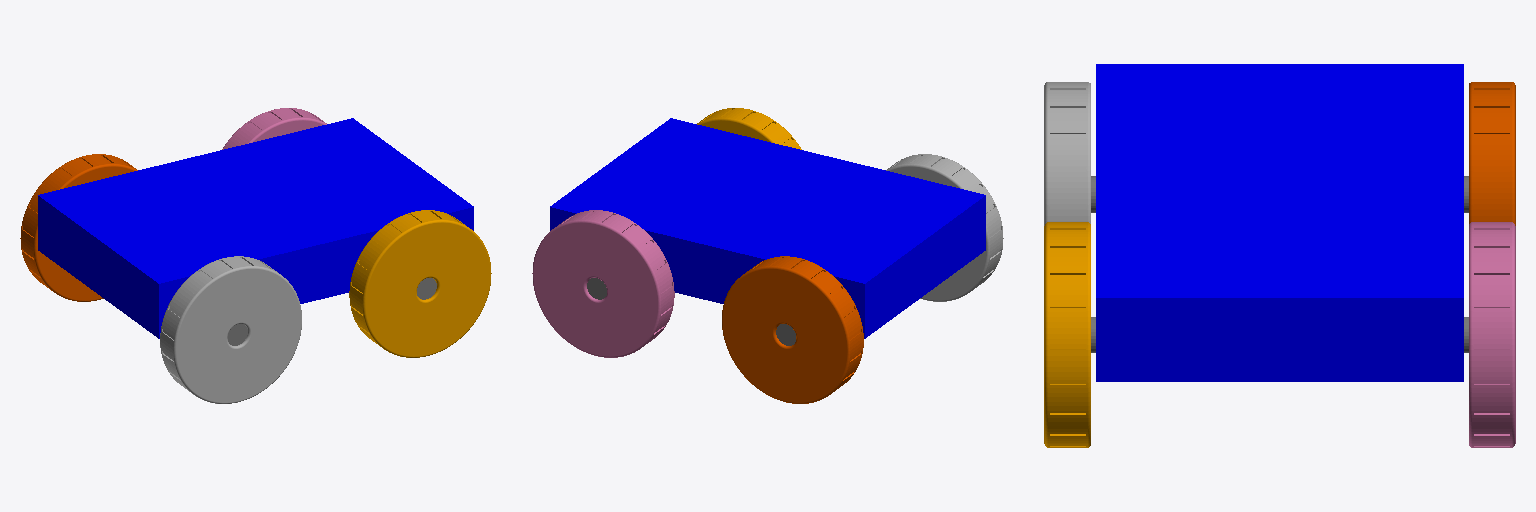
robot.urdf — farad_amr:
<?xml version="1.0"?>
<robot name="farad_amr">

<!-- Base link (chassis) -->
<link name="base_link">
<visual>
<geometry>
<box size="0.6 0.4 0.1"/>
</geometry>
<material name="blue">
<color rgba="0 0 1 1"/>
</material>
</visual>
<collision>
<geometry>
<box size="0.6 0.4 0.1"/>
</geometry>
</collision>
<inertial>
<mass value="10.0"/>
<inertia ixx="0.1" ixy="0.0" ixz="0.0" iyy="0.1" iyz="0.0" izz="0.1"/>
</inertial>
</link>




<!-- Left front shaft -->
<link name="left_front_shaft">
<visual>
<geometry>
<cylinder radius="0.02" length="0.10"/>
</geometry>
<origin xyz="0 0 0" rpy="1.5708 0 0"/>
<material name="gray">
<color rgba="0.5 0.5 0.5 1"/>
</material>
</visual>
<collision>
<geometry>
<cylinder radius="0.02" length="0.10"/>
</geometry>
<origin xyz="0 0 0" rpy="1.5708 0 0"/>
</collision>
<inertial>
<mass value="0.2"/>
<inertia ixx="0.01" ixy="0.0" ixz="0.0" iyy="0.01" iyz="0.0" izz="0.01"/>
</inertial>
</link>

<!-- Left rear shaft -->
<link name="left_rear_shaft">
<visual>
<geometry>
<cylinder radius="0.02" length="0.10"/>
</geometry>
<origin xyz="0 0 0" rpy="1.5708 0 0"/>
<material name="gray">
<color rgba="0.5 0.5 0.5 1"/>
</material>
</visual>
<collision>
<geometry>
<cylinder radius="0.02" length="0.10"/>
</geometry>
<origin xyz="0 0 0" rpy="1.5708 0 0"/>
</collision>
<inertial>
<mass value="0.2"/>
<inertia ixx="0.01" ixy="0.0" ixz="0.0" iyy="0.01" iyz="0.0" izz="0.01"/>
</inertial>
</link>

<!-- Right front shaft -->
<link name="right_front_shaft">
<visual>
<geometry>
<cylinder radius="0.02" length="0.10"/>
</geometry>
<origin xyz="0 0 0" rpy="1.5708 0 0"/>
<material name="gray">
<color rgba="0.5 0.5 0.5 1"/>
</material>
</visual>
<collision>
<geometry>
<cylinder radius="0.02" length="0.10"/>
</geometry>
<origin xyz="0 0 0" rpy="1.5708 0 0"/>
</collision>
<inertial>
<mass value="0.2"/>
<inertia ixx="0.01" ixy="0.0" ixz="0.0" iyy="0.01" iyz="0.0" izz="0.01"/>
</inertial>
</link>

<!-- Right rear shaft -->
<link name="right_rear_shaft">
<visual>
<geometry>
<cylinder radius="0.02" length="0.10"/>
</geometry>
<origin xyz="0 0 0" rpy="1.5708 0 0"/>
<material name="gray">
<color rgba="0.5 0.5 0.5 1"/>
</material>
</visual>
<collision>
<geometry>
<cylinder radius="0.02" length="0.10"/>
</geometry>
<origin xyz="0 0 0" rpy="1.5708 0 0"/>
</collision>
<inertial>
<mass value="0.2"/>
<inertia ixx="0.01" ixy="0.0" ixz="0.0" iyy="0.01" iyz="0.0" izz="0.01"/>
</inertial>
</link>



<!-- ================= TIRES (MESH) ================= -->

<!-- Left front tire (aligned with shaft, at +Y end) -->
<link name="left_front_tire">
	<inertial>
		<origin xyz="0 0 0"/>
		<mass value="1.0"/>
		<inertia ixx="0.02" iyy="0.02" izz="0.02" ixy="0" ixz="0" iyz="0"/>
	</inertial>
	<visual>
		<origin xyz="0 0.03 0" rpy="1.5708 0 0"/>
		<geometry>
			<mesh filename="tire_1.stl" scale="0.001 0.001 0.001"/>
		</geometry>
	</visual>
	<collision>
		<origin xyz="0 0.03 0" rpy="1.5708 0 0"/>
		<geometry>
			<mesh filename="tire_1.stl" scale="0.001 0.001 0.001"/>
		</geometry>
	</collision>
</link>

<!-- Left rear tire (aligned with shaft, at +Y end) -->
<link name="left_rear_tire">
	<inertial>
		<origin xyz="0 0 0"/>
		<mass value="1.0"/>
		<inertia ixx="0.02" iyy="0.02" izz="0.02" ixy="0" ixz="0" iyz="0"/>
	</inertial>
	<visual>
		<origin xyz="0 0.03 0" rpy="1.5708 0 0"/>
		<geometry>
			<mesh filename="tire_1.stl" scale="0.001 0.001 0.001"/>
		</geometry>
	</visual>
	<collision>
		<origin xyz="0 0.03 0" rpy="1.5708 0 0"/>
		<geometry>
			<mesh filename="tire_1.stl" scale="0.001 0.001 0.001"/>
		</geometry>
	</collision>
</link>

<!-- Right front tire (aligned with shaft, at +Y end) -->
<link name="right_front_tire">
	<inertial>
		<origin xyz="0 0 0"/>
		<mass value="1.0"/>
		<inertia ixx="0.02" iyy="0.02" izz="0.02" ixy="0" ixz="0" iyz="0"/>
	</inertial>
	<visual>
		<origin xyz="0 -0.03 0" rpy="1.5708 0 0"/>
		<geometry>
			<mesh filename="tire_1.stl" scale="0.001 0.001 0.001"/>
		</geometry>
	</visual>
	<collision>
		<origin xyz="0 -0.03 0" rpy="1.5708 0 0"/>
		<geometry>
			<mesh filename="tire_1.stl" scale="0.001 0.001 0.001"/>
		</geometry>
	</collision>
</link>

<!-- Right rear tire (aligned with shaft, at +Y end) -->
<link name="right_rear_tire">
	<inertial>
		<origin xyz="0 0 0"/>
		<mass value="1.0"/>
		<inertia ixx="0.02" iyy="0.02" izz="0.02" ixy="0" ixz="0" iyz="0"/>
	</inertial>
	<visual>
		<origin xyz="0 -0.03 0" rpy="1.5708 0 0"/>
		<geometry>
			<mesh filename="tire_1.stl" scale="0.001 0.001 0.001"/>
		</geometry>
	</visual>
	<collision>
		<origin xyz="0 -0.03 0" rpy="1.5708 0 0"/>
		<geometry>
			<mesh filename="tire_1.stl" scale="0.001 0.001 0.001"/>
		</geometry>
	</collision>
</link>



<!-- ================= SHAFTS AND TIRES ASSEMBLY ================= -->

<!-- Left front shaft (front left corner) -->
<joint name="base_link_to_left_front_shaft" type="fixed">
	<parent link="base_link"/>
	<child link="left_front_shaft"/>
	<origin xyz="-0.18 0.2 -0.05" rpy="0 0 0"/>
</joint>

<!-- Attach left front tire to shaft with continuous joint (rotates freely) -->
<joint name="left_front_shaft_to_tire" type="continuous">
	<parent link="left_front_shaft"/>
	<child link="left_front_tire"/>
	<!-- Tire is placed at end of shaft, so no offset needed -->
	<origin xyz="0 0 0" rpy="0 0 0"/>
	<axis xyz="0 1 0"/>
</joint>

<!-- Left rear shaft (rear left corner) -->
<joint name="base_link_to_left_rear_shaft" type="fixed">
	<parent link="base_link"/>
	<child link="left_rear_shaft"/>
	<origin xyz="0.18 0.2 -0.05" rpy="0 0 0"/>
</joint>

<!-- Attach left rear tire to shaft with continuous joint -->
<joint name="left_rear_shaft_to_tire" type="continuous">
	<parent link="left_rear_shaft"/>
	<child link="left_rear_tire"/>
	<origin xyz="0 0 0" rpy="0 0 0"/>
	<axis xyz="0 1 0"/>
</joint>

<!-- Right front shaft (front right corner) -->
<joint name="base_link_to_right_front_shaft" type="fixed">
	<parent link="base_link"/>
	<child link="right_front_shaft"/>
	<origin xyz="-0.18 -0.2 -0.05" rpy="0 0 0"/>
</joint>

<!-- Attach right front tire to shaft with continuous joint -->
<joint name="right_front_shaft_to_tire" type="continuous">
	<parent link="right_front_shaft"/>
	<child link="right_front_tire"/>
	<origin xyz="0 0 0" rpy="0 0 0"/>
	<axis xyz="0 1 0"/>
</joint>

<!-- Right rear shaft (rear right corner) -->
<joint name="base_link_to_right_rear_shaft" type="fixed">
	<parent link="base_link"/>
	<child link="right_rear_shaft"/>
	<origin xyz="0.18 -0.2 -0.05" rpy="0 0 0"/>
</joint>

<!-- Attach right rear tire to shaft with continuous joint -->
<joint name="right_rear_shaft_to_tire" type="continuous">
	<parent link="right_rear_shaft"/>
	<child link="right_rear_tire"/>
	<origin xyz="0 0 0" rpy="0 0 0"/>
	<axis xyz="0 1 0"/>
</joint>

</robot>

--- Render facts (derived) ---
3 views of the same robot in one strip: view 1: azimuth 30°, elevation 25°; view 2: azimuth 150°, elevation 25°; view 3: azimuth 270°, elevation 25° (orthographic).
Robot: farad_amr — 9 links, 8 joints (4 continuous, 4 fixed); root link base_link; default pose: every joint at zero.
Visible links, largest first — view 1: base_link, right_front_tire, right_rear_tire, left_front_tire, left_rear_tire; view 2: base_link, left_front_tire, left_rear_tire, right_front_tire, right_rear_tire; view 3: base_link, left_rear_tire, right_rear_tire, left_front_tire, right_front_tire.
Link boxes in pixels (box(x1,y1,x2,y2)): base_link: box(38, 118, 473, 338); right_front_tire: box(160, 256, 301, 403); right_rear_tire: box(349, 210, 491, 357); left_front_tire: box(20, 154, 137, 301); left_rear_tire: box(222, 108, 326, 149); base_link: box(550, 118, 985, 338); left_front_tire: box(722, 256, 863, 403); left_rear_tire: box(532, 210, 674, 357); right_front_tire: box(886, 154, 1003, 301); right_rear_tire: box(697, 108, 801, 149); base_link: box(1096, 64, 1463, 381); left_rear_tire: box(1469, 222, 1515, 447); right_rear_tire: box(1044, 222, 1090, 447); left_front_tire: box(1469, 82, 1515, 225); right_front_tire: box(1044, 82, 1090, 225).
Size in the robot's own frame: 0.6043 by 0.5109 by 0.2442 metres.
4 mesh visuals loaded from 1 distinct referenced files (1 binary STL).
